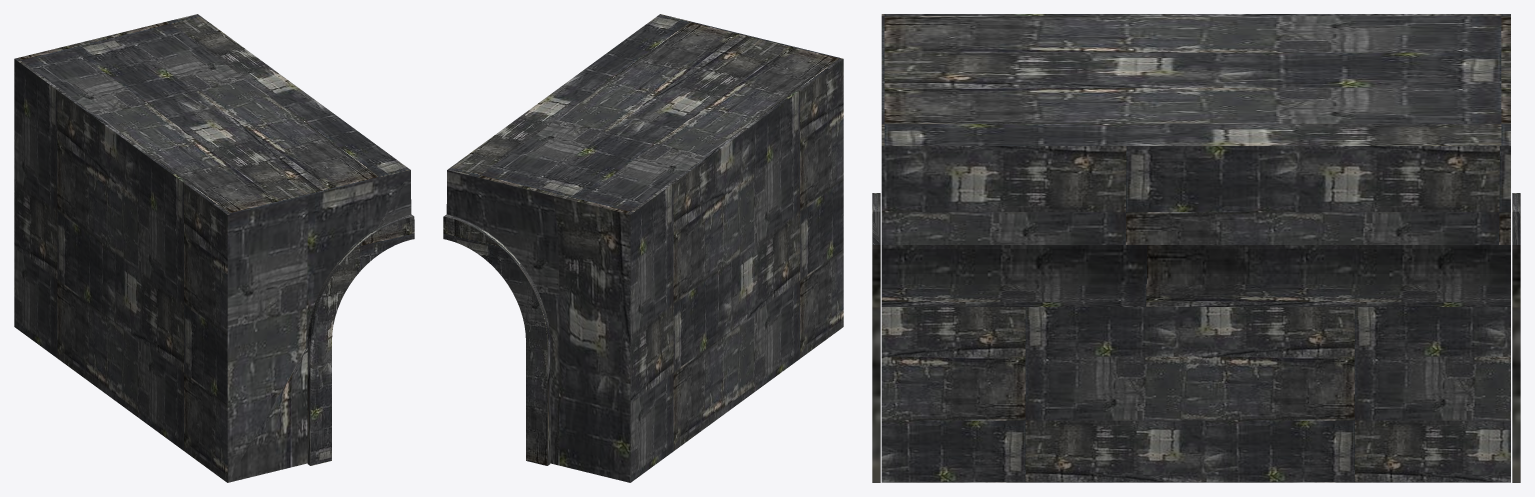
Rendered from HoCitadelSub03.glb.
3 views of the same model, side by side, from view 1: azimuth 30°, elevation 25°; view 2: azimuth 150°, elevation 25°; view 3: azimuth 270°, elevation 25° (orthographic). The views are drawn at different scales.
Visible parts, largest first — view 1: Base.002; view 2: Base.002; view 3: Base.002.
Part boxes in pixels (x1=…): Base.002: x1=14, y1=14, x2=414, y2=482; Base.002: x1=443, y1=14, x2=843, y2=482; Base.002: x1=872, y1=14, x2=1520, y2=482.
Size of the model in its own units: 22.62 by 31.54 by 46.78.
1 material, 1 textured.
